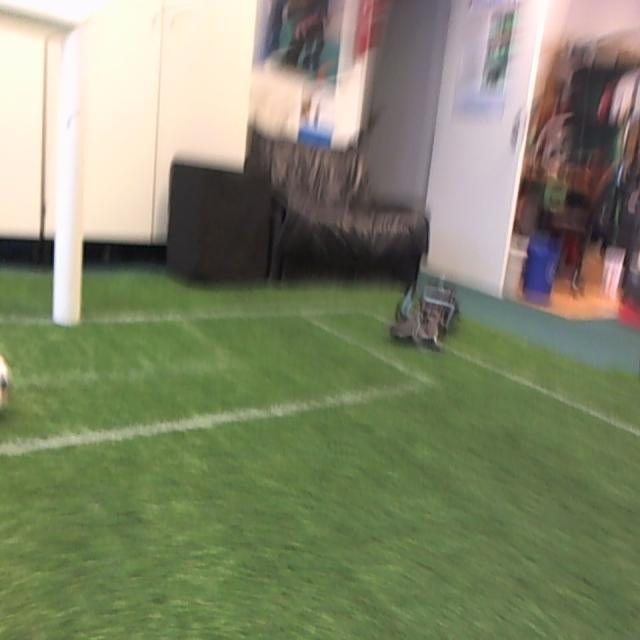goalpost: (54, 23, 88, 321)
